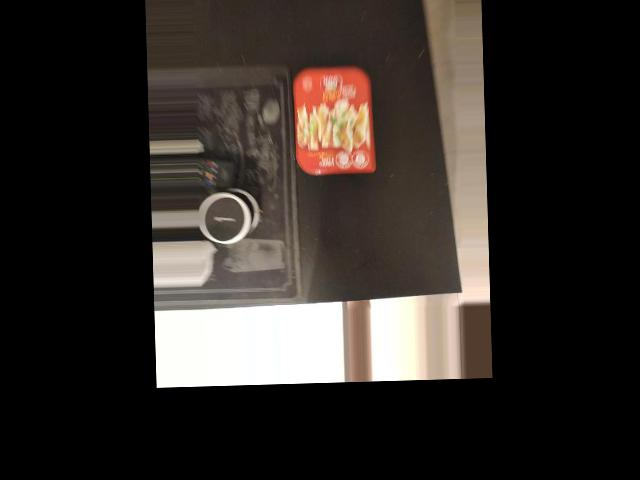cheese: (289, 64, 378, 178)
